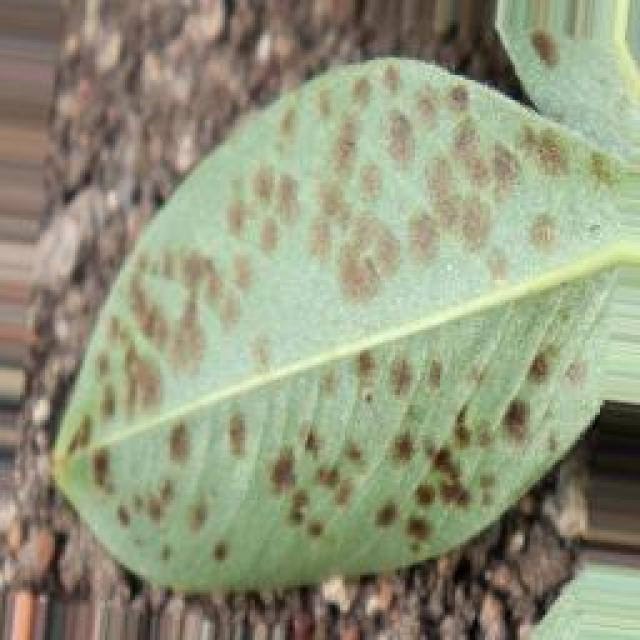Whitefly: (61, 0, 602, 548)
